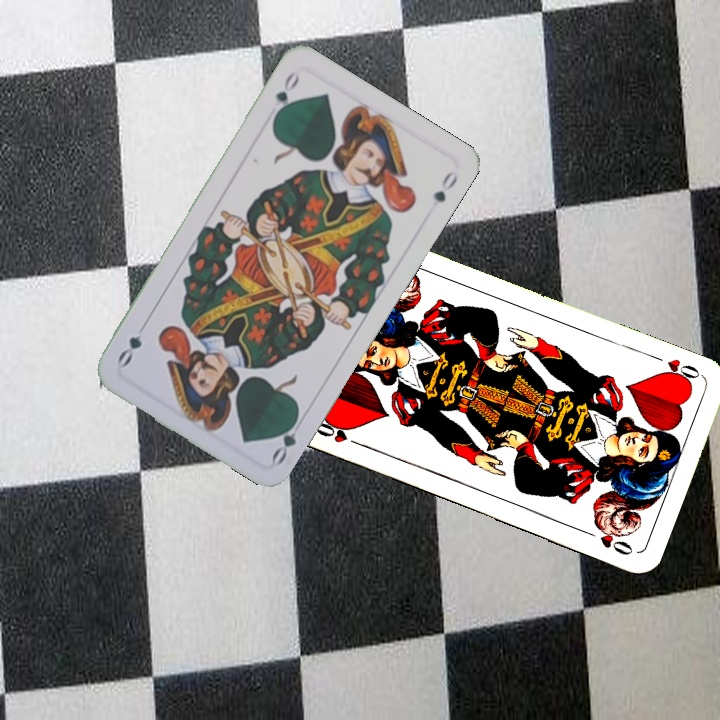GO: (267, 410, 308, 467), (269, 66, 302, 123)
HO: (647, 350, 704, 388), (310, 418, 366, 450)
